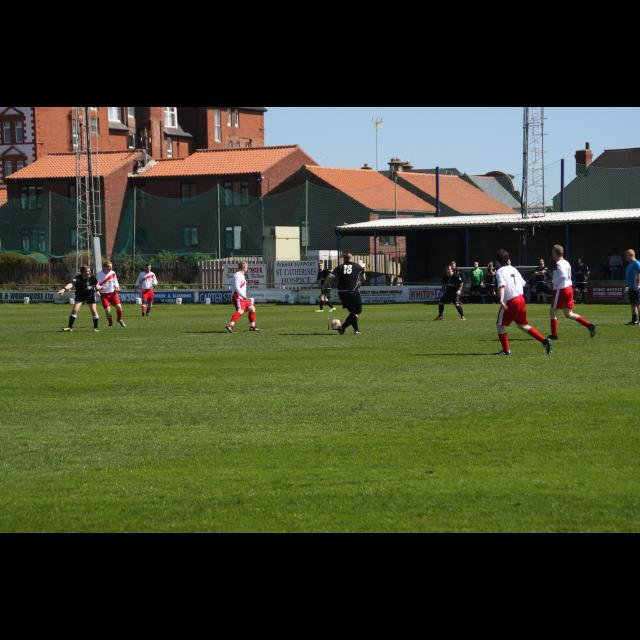Football: (328, 318, 340, 330)
